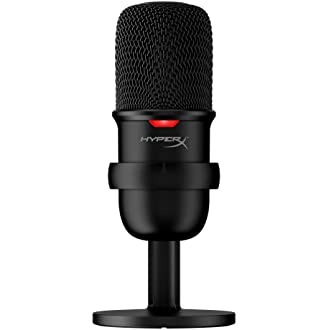microphone: (88, 1, 238, 330)
